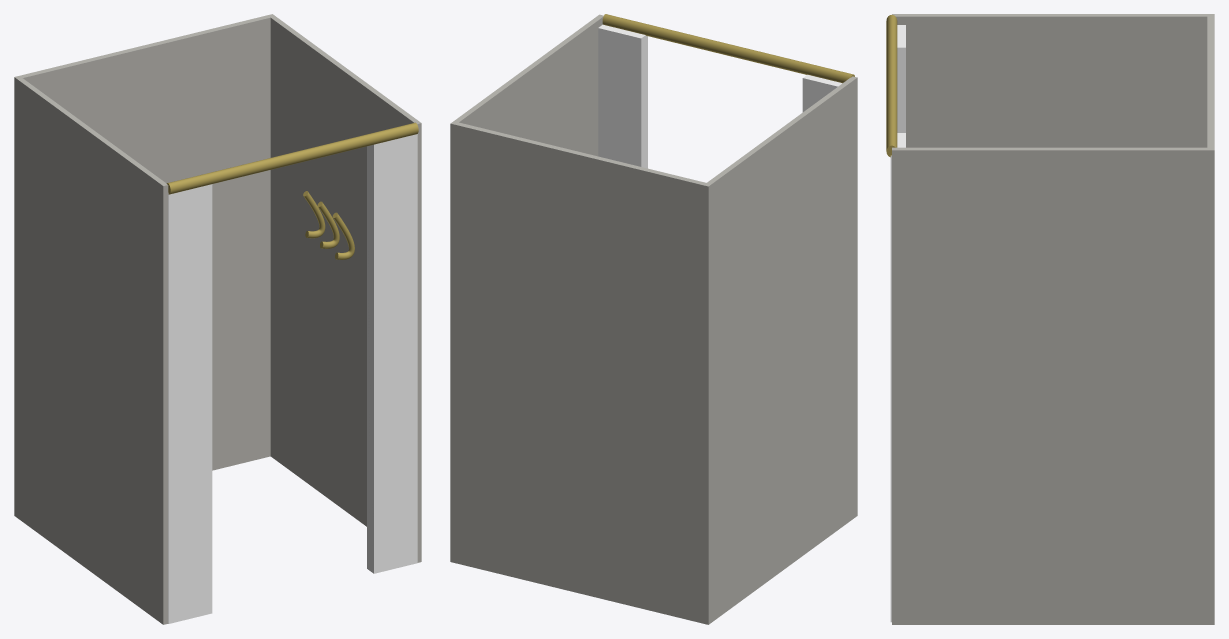
Rendered from changingRoom.fbx.
3 views of the same model, side by side, from view 1: azimuth 30°, elevation 25°; view 2: azimuth 150°, elevation 25°; view 3: azimuth 270°, elevation 25° (orthographic). The views are drawn at different scales.
Parts seen in each view (by area): view 1: Polygon_5, Cube_1, Cube, Polygon_4; view 2: Polygon_5, Cube_1, Polygon_4, Cube; view 3: Polygon_5, Polygon_4, Cube_1, Cube.
Boxes of the visible parts, x1,y1,x2,y2 form: Polygon_5: (14, 14, 421, 624); Cube_1: (367, 134, 417, 573); Cube: (168, 184, 212, 623); Polygon_4: (166, 122, 418, 194); Polygon_5: (450, 14, 857, 624); Cube_1: (598, 24, 647, 168); Polygon_4: (602, 14, 854, 83); Cube: (802, 74, 842, 112); Polygon_5: (892, 14, 1214, 624); Polygon_4: (886, 15, 897, 157); Cube_1: (890, 133, 905, 622); Cube: (897, 25, 905, 132).
Bounding box in the file's own units: 150 × 244 × 152.
